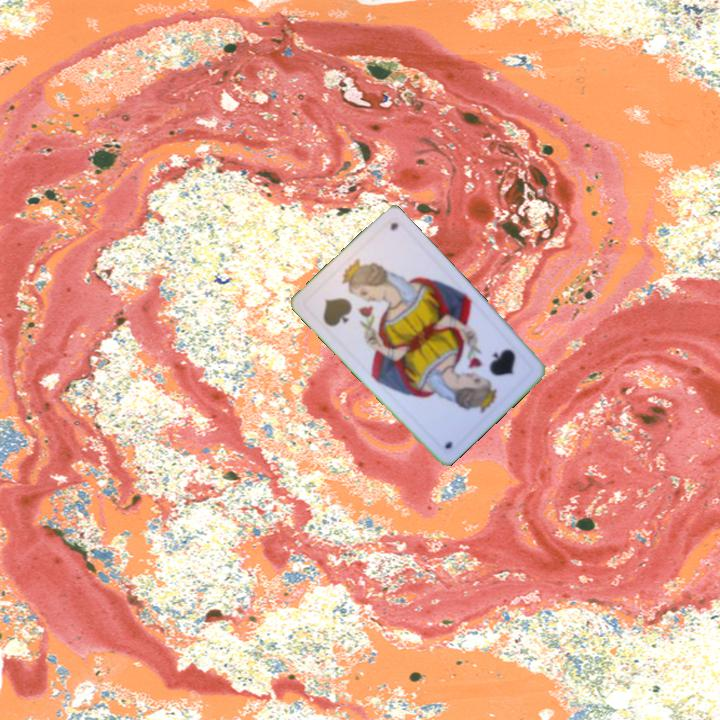s_q.png: (301, 258, 387, 344), (451, 328, 537, 413)
